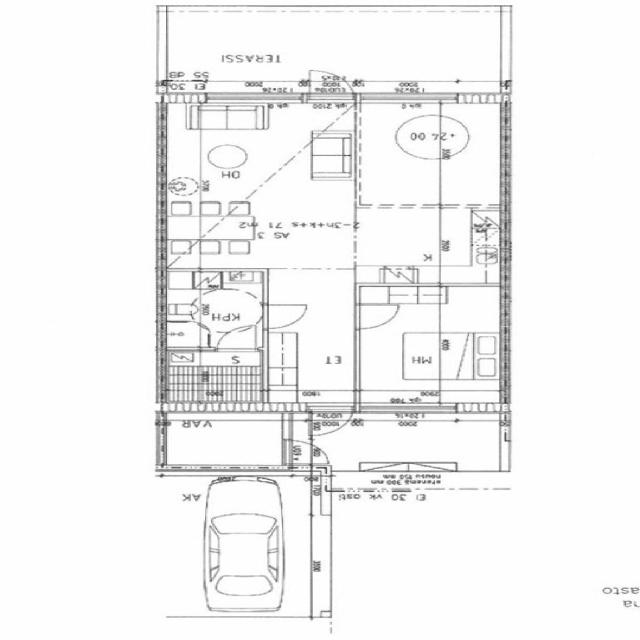door: (302, 71, 358, 104), (259, 300, 313, 332), (350, 301, 405, 331), (213, 324, 261, 353), (308, 408, 354, 438)
window: (197, 86, 311, 110), (359, 92, 460, 108)
zone: (161, 102, 357, 266), (356, 281, 506, 410), (357, 95, 505, 204), (353, 206, 502, 282), (160, 274, 267, 352), (158, 412, 297, 472), (160, 350, 266, 412)
